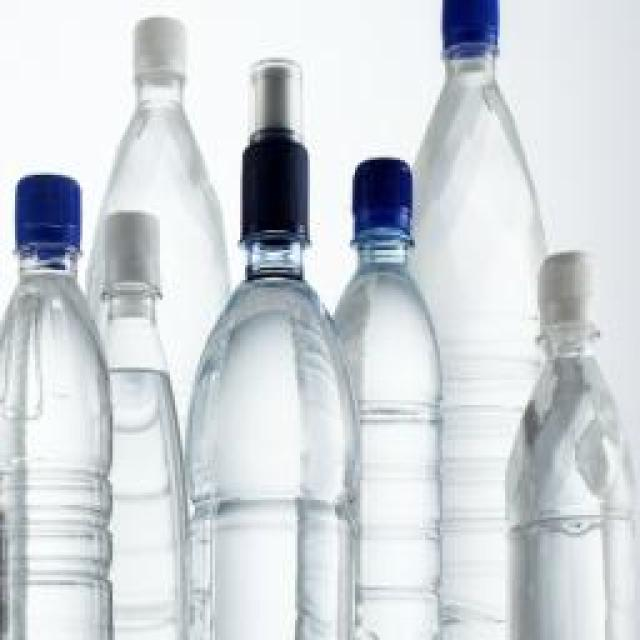bottle: (194, 61, 358, 640), (417, 0, 553, 640), (333, 152, 448, 640), (502, 247, 639, 640), (0, 175, 115, 640), (105, 212, 190, 638)
